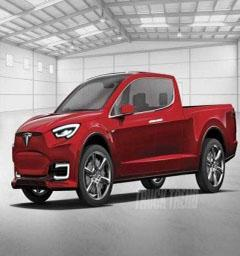car: (6, 54, 236, 214)
